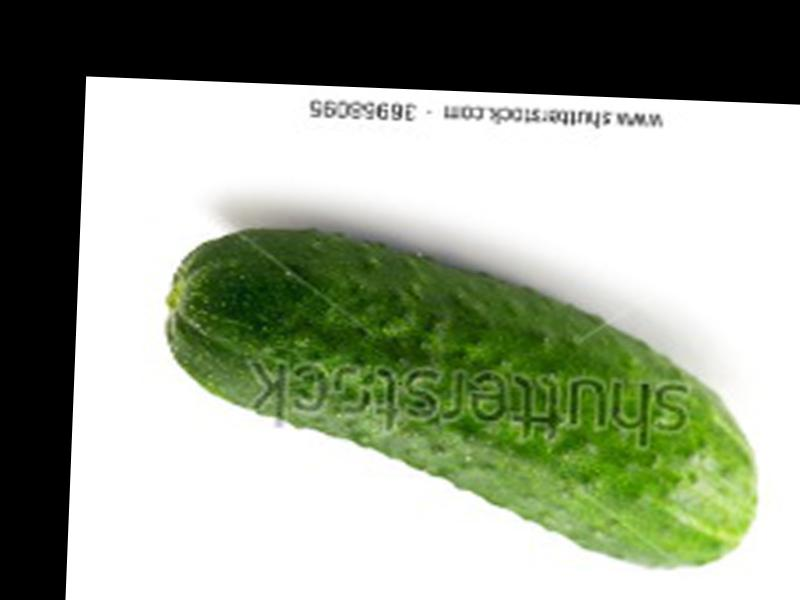Cucumber: (158, 222, 766, 573)
